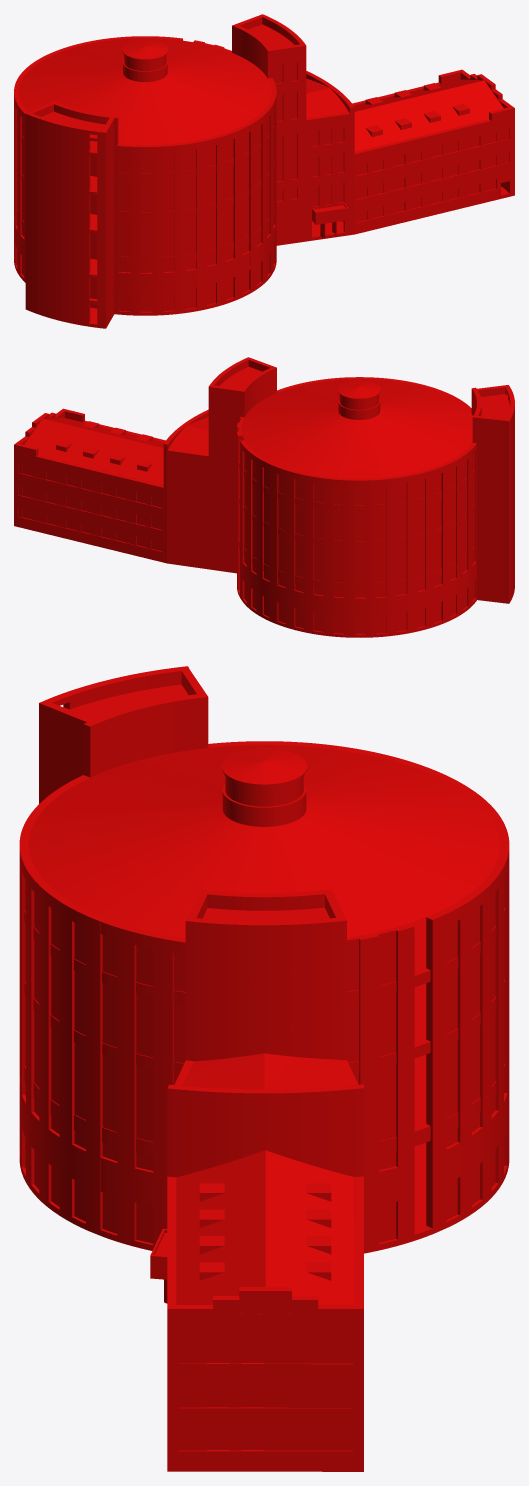
File: zotov-dressed.glb
3 renders of one model, top to bottom at view 1: azimuth 30°, elevation 25°; view 2: azimuth 150°, elevation 25°; view 3: azimuth 270°, elevation 25°, orthographic. The views are drawn at different scales.
Parts seen in each view (by area): view 1: 1 etazh; view 2: 1 etazh; view 3: 1 etazh.
Boxes of the visible parts, left/top/right/bottom form: 1 etazh: left=14, top=14, right=514, bottom=328; 1 etazh: left=14, top=357, right=514, bottom=637; 1 etazh: left=19, top=666, right=509, bottom=1471.
Bounding box in the file's own units: 1.58 × 0.6681 × 0.7442.
